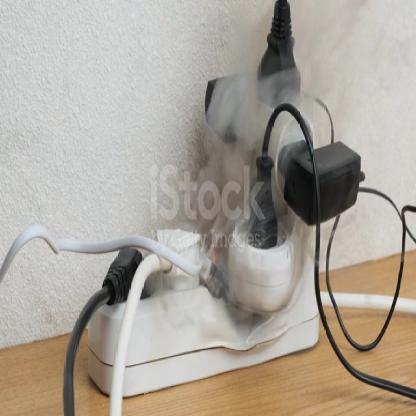smoke: (195, 7, 353, 322)
